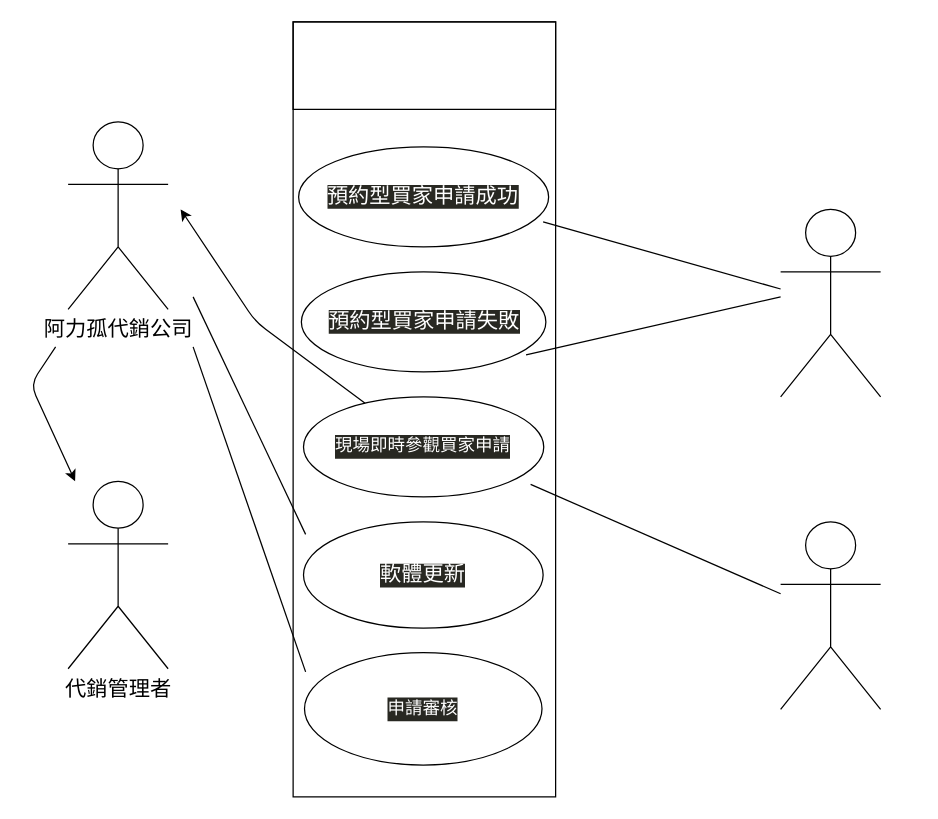
Image size: 938x819. Some labels were removed from this diagram. The shapes that lost their labels are listed below. From the top down, each one's box as (x1, y1, x2, y2) in pixels, then its label:
(292, 21, 556, 109): 阿力孤房屋代銷軟體
(779, 208, 881, 397): 預約型買家
(779, 521, 881, 709): 現場即時參觀買家
